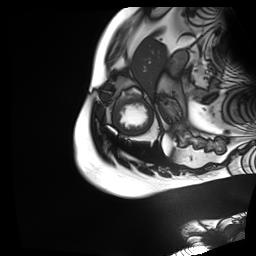ventricle: (121, 105, 147, 129)
